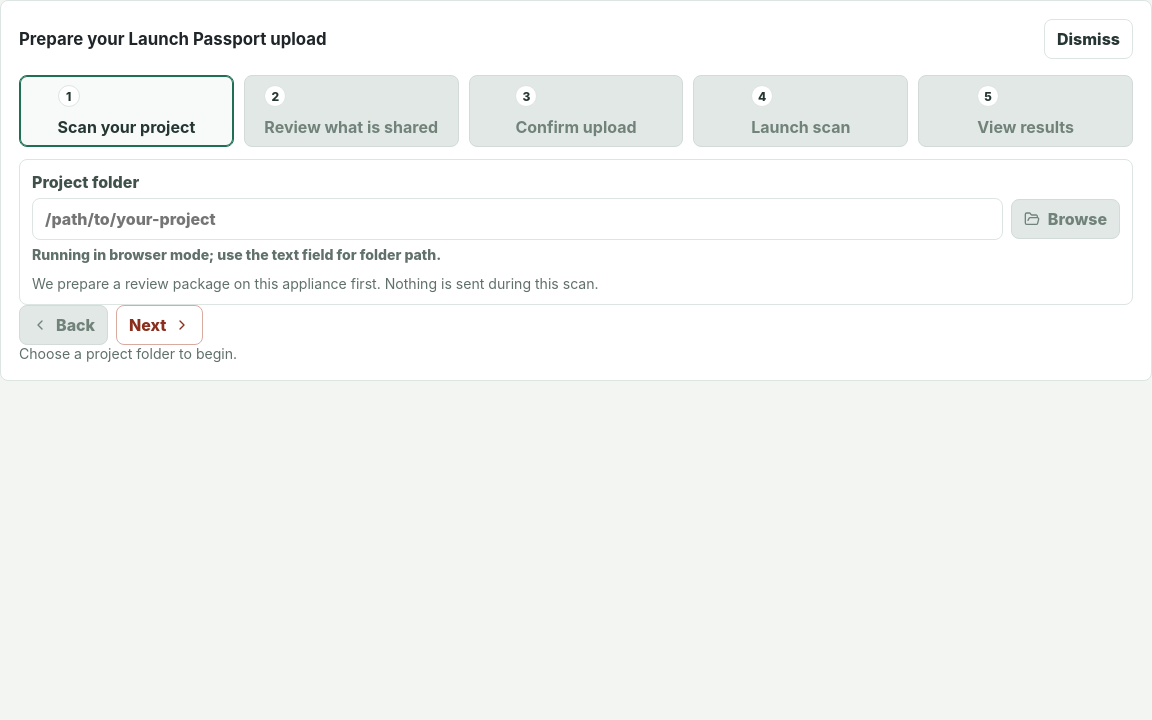
Test case: wla-wp17 Launch Passport UI › requires a preview before upload and turns a server refusal into clear guidance
The image size is (1152, 720).
Type "/workspace/project" into the field with placeholder "/path/to/your-project". click: coordinates (517, 219)
box: [32, 198, 1003, 240]
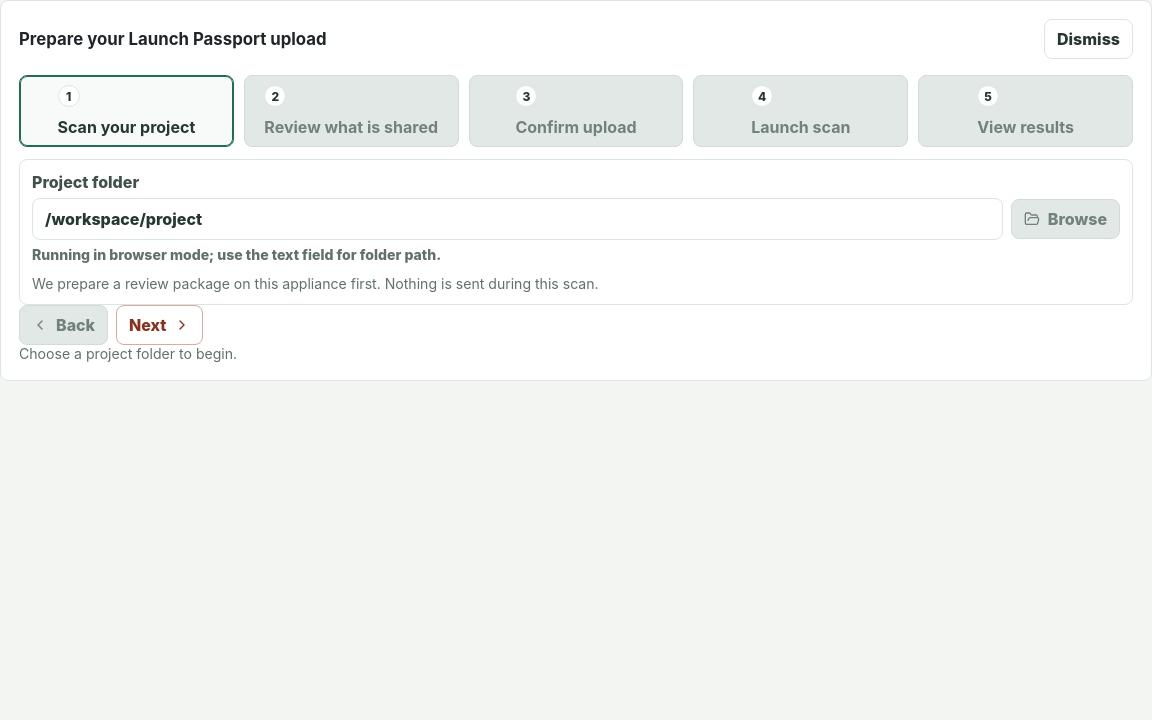
Click the button "Next". click: coordinates (160, 325)
box: [116, 305, 204, 345]
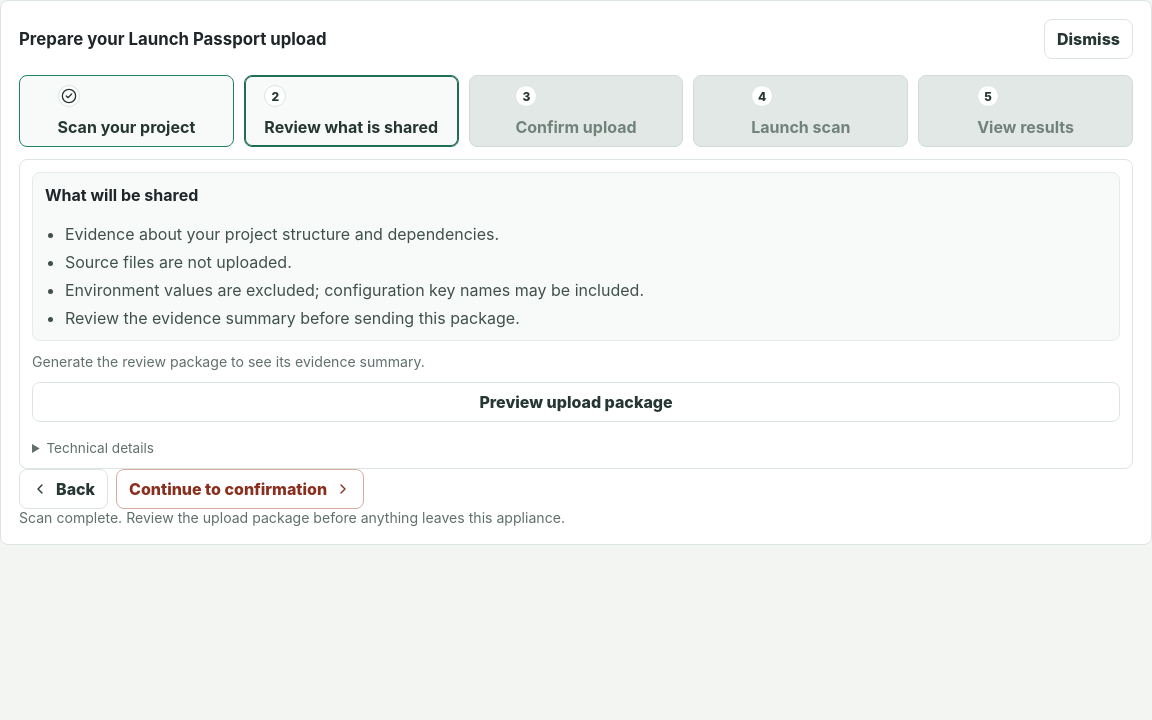
Check: the heading "What will be shared" is shown, box [45, 185, 198, 205]
Check: the list item "Source files are not uploaded." is shown, box [65, 252, 292, 272]
Check: the list item "Environment values are excluded" is shown, box [65, 280, 644, 300]
Click the button "Preview upload package". click: coordinates (576, 402)
box: [32, 382, 1120, 422]
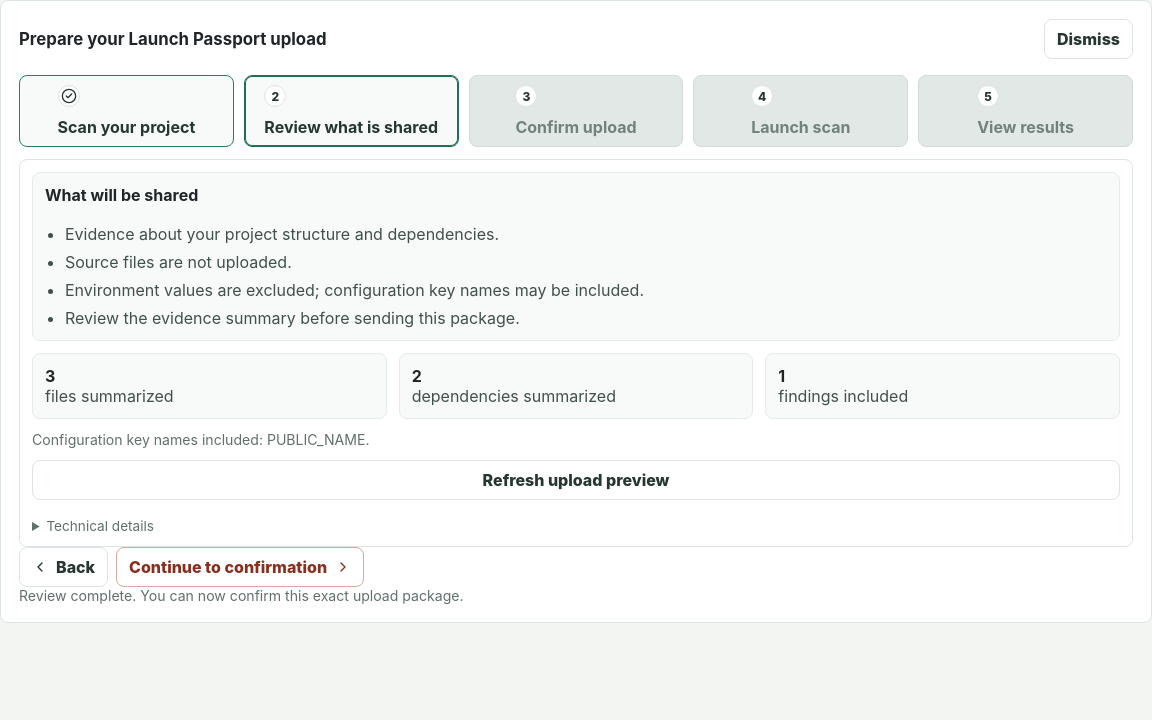
Check: the text "Review complete. You can now confirm this exact upload package." is shown, box [19, 587, 464, 604]
Check: the button "Continue to confirmation" is enabled
Click the button "Continue to confirmation". click: coordinates (240, 567)
box: [116, 547, 364, 587]
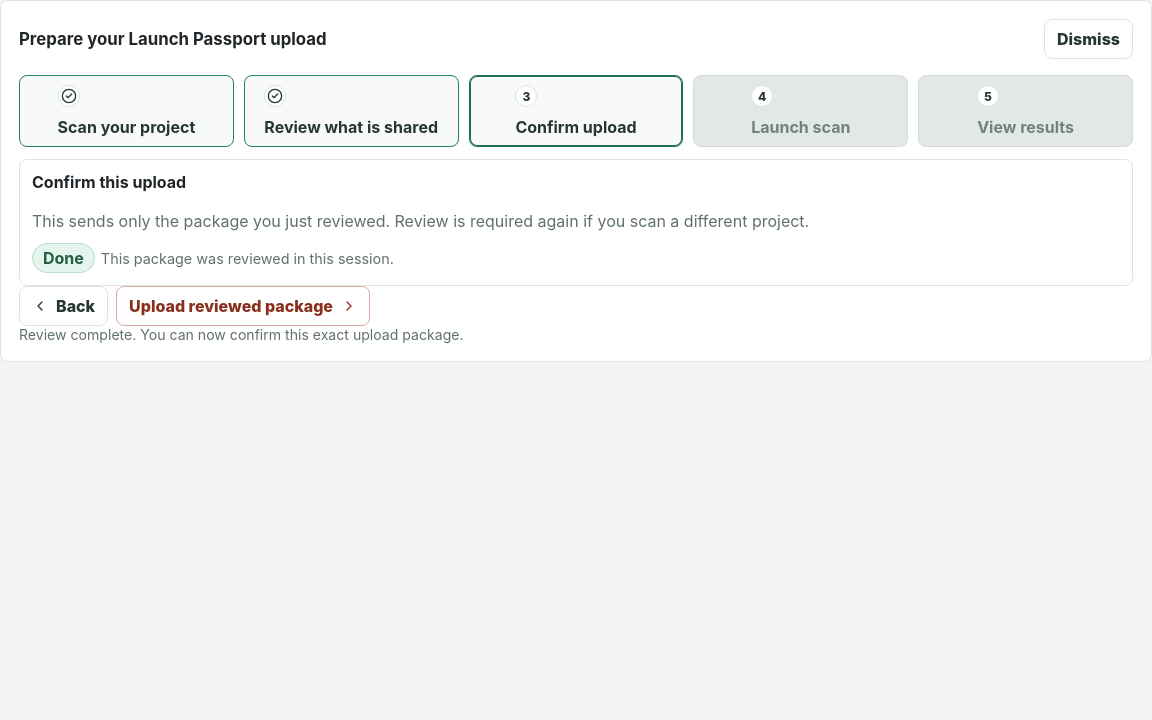
Check: the heading "Confirm this upload" is shown, box [32, 172, 186, 192]
Click the button "Upload reviewed package". click: coordinates (243, 306)
box: [116, 286, 370, 326]
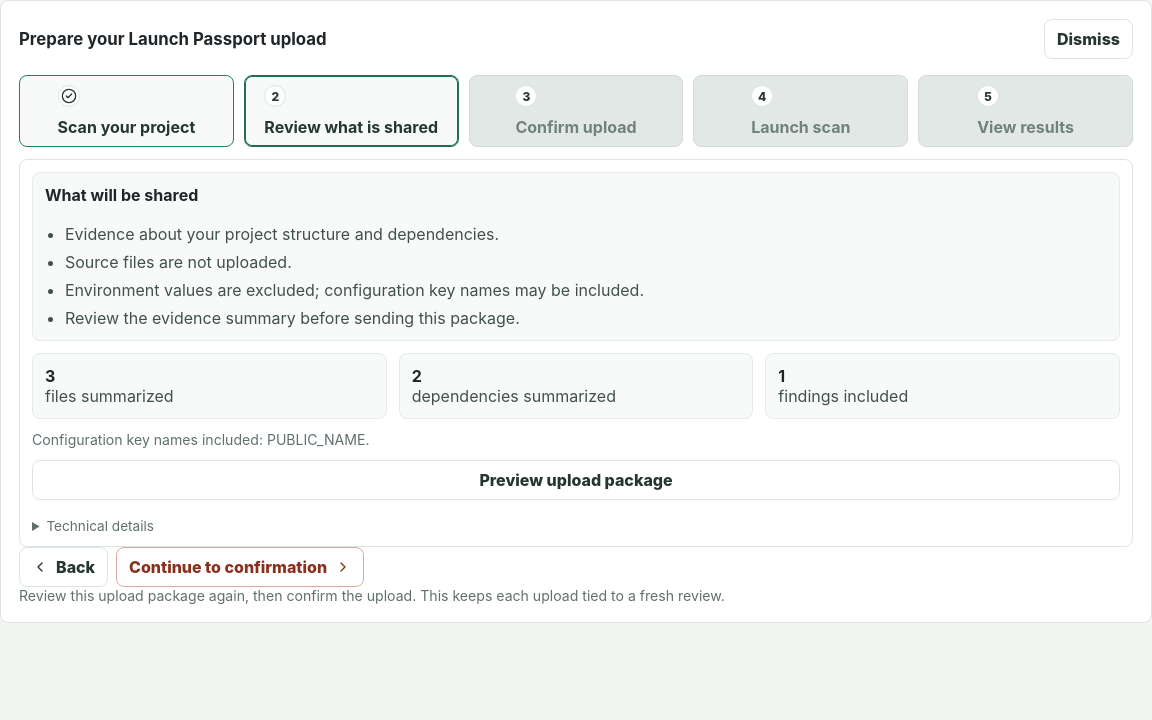
Check: the text "Review this upload package again" is shown, box [19, 587, 725, 604]
Check: the heading "What will be shared" is shown, box [45, 185, 198, 205]
Check: the button "Continue to confirmation" is disabled, box [116, 547, 364, 587]
